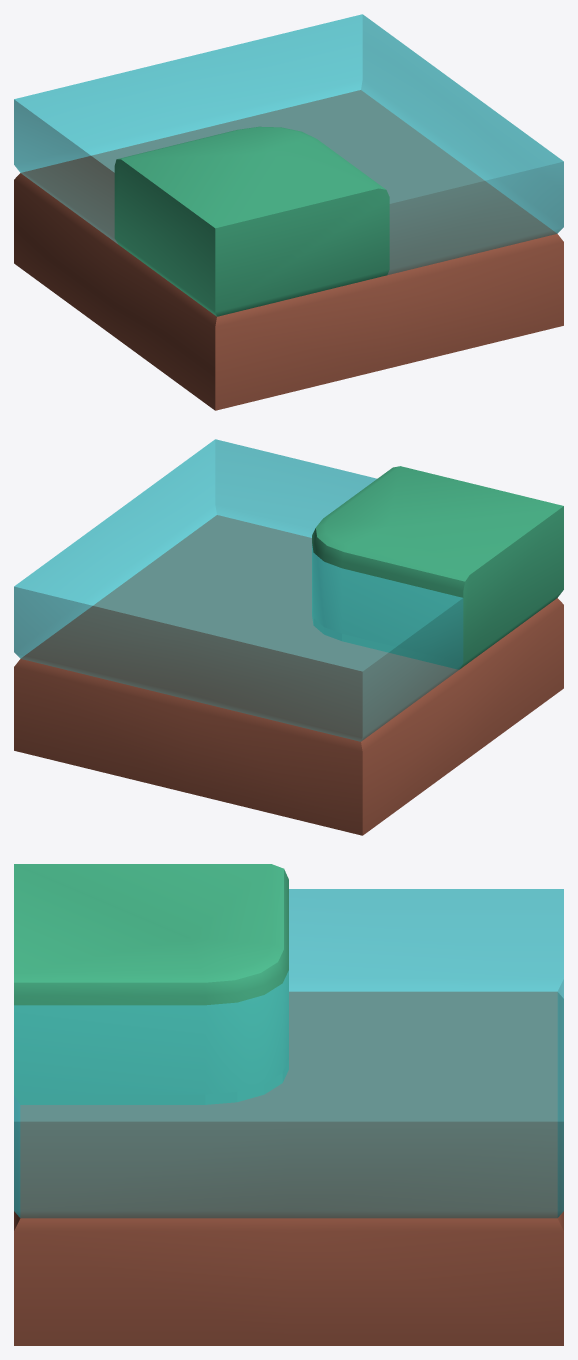
File: square_forest_waterOuterCorner.fbx
The picture shows the model from 3 angles, top to bottom: view 1: azimuth 30°, elevation 25°; view 2: azimuth 150°, elevation 25°; view 3: azimuth 270°, elevation 25°; orthographic projection. The views are drawn at different scales.
Visible parts, largest first — view 1: square_forest_waterOuterCorner; view 2: square_forest_waterOuterCorner; view 3: square_forest_waterOuterCorner.
Part boxes in pixels (x1,y1,x2,y2): square_forest_waterOuterCorner: (14, 14, 563, 410); square_forest_waterOuterCorner: (14, 439, 563, 835); square_forest_waterOuterCorner: (14, 864, 563, 1345).
Size of the model in its own units: 2 by 1 by 2.
